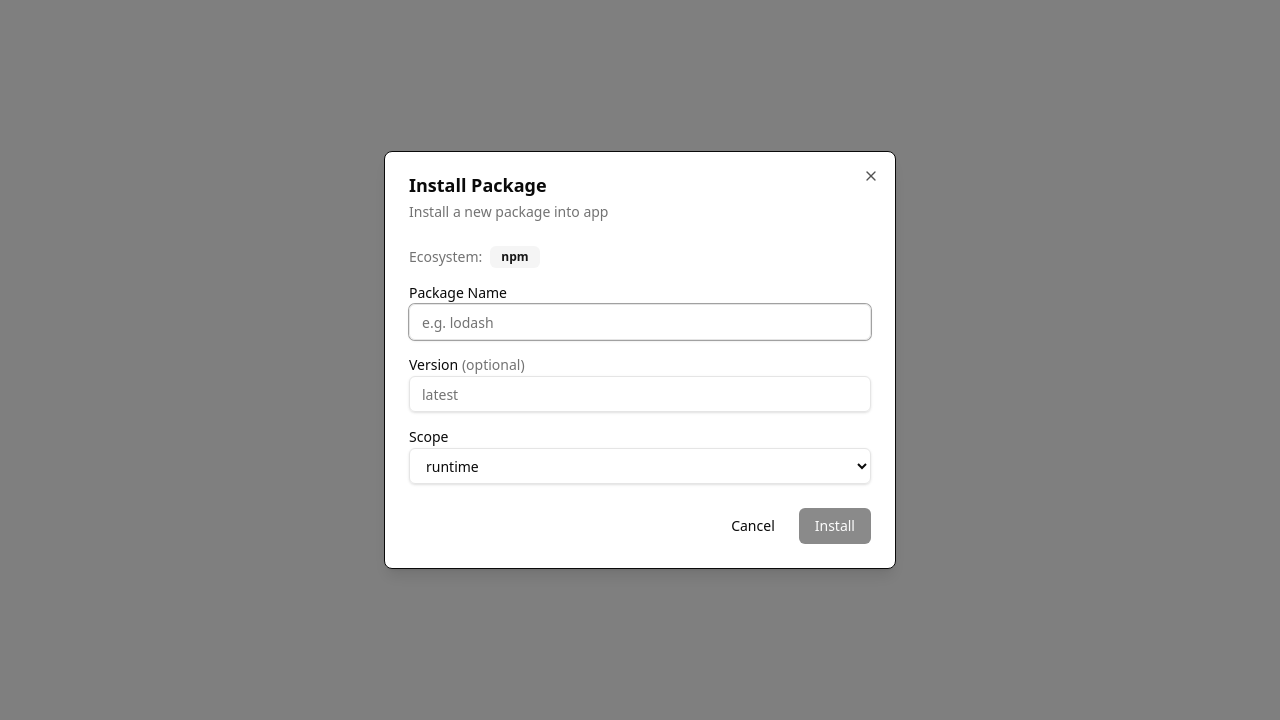
it: InstallDialog › shows result when install completes
// Type "lodash" so the result is considered relevant
Type "lodash" into the field with test id "install-package-name" at [640, 322], box 409,304 -> 871,340
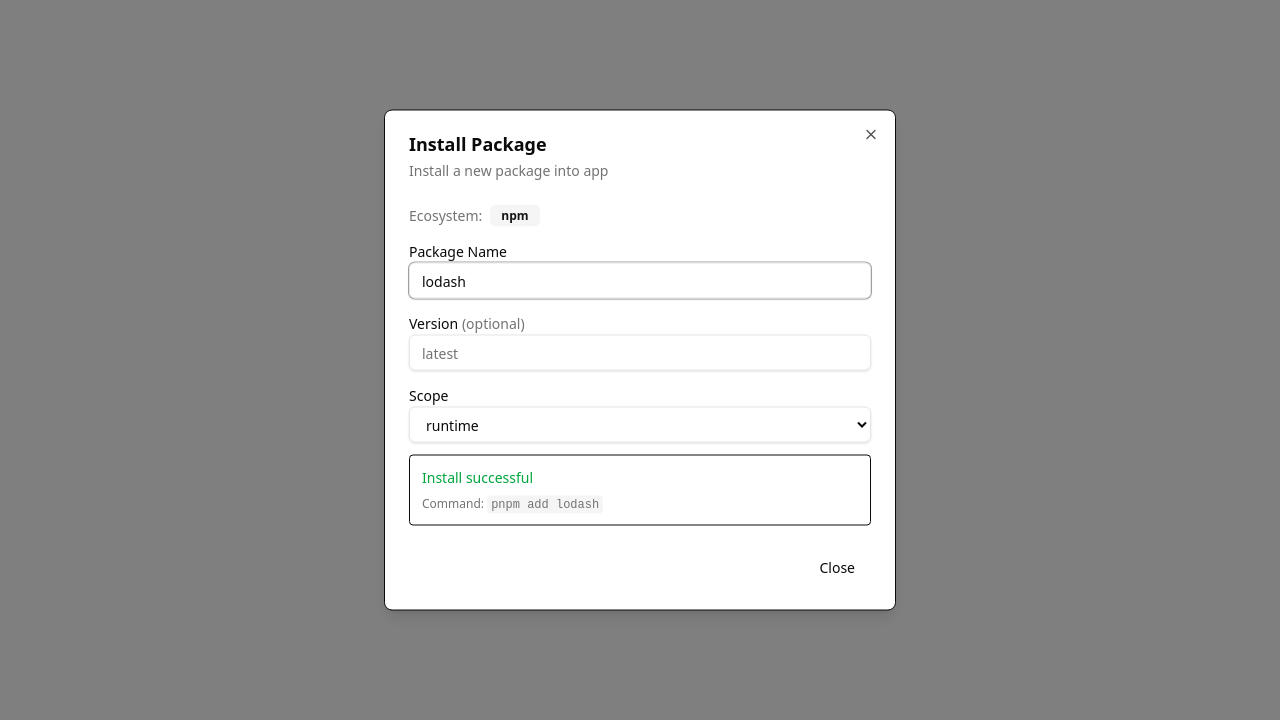
Expected: the element with test id "install-result" is shown, 409,454 -> 871,526
Expected: the text "Install successful" is shown, 422,468 -> 533,486
